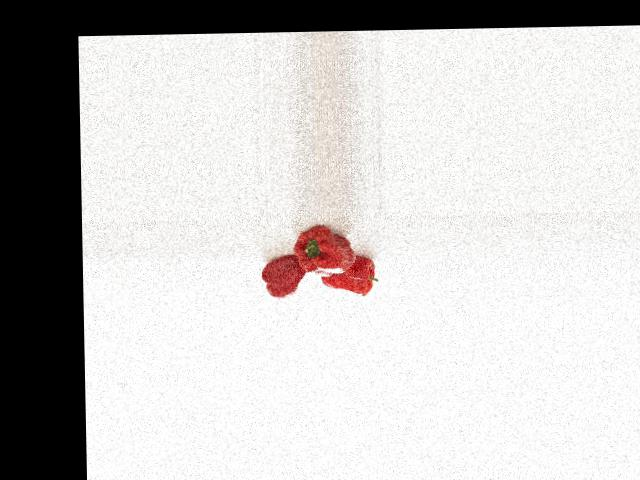bell_pepper: (258, 252, 303, 299)
